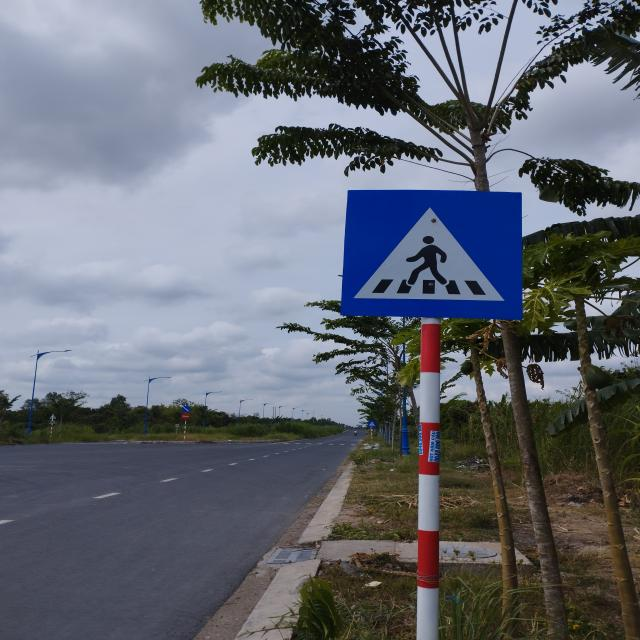Giao_Nhau_Duong_Uu_Tien: (340, 188, 524, 320)
